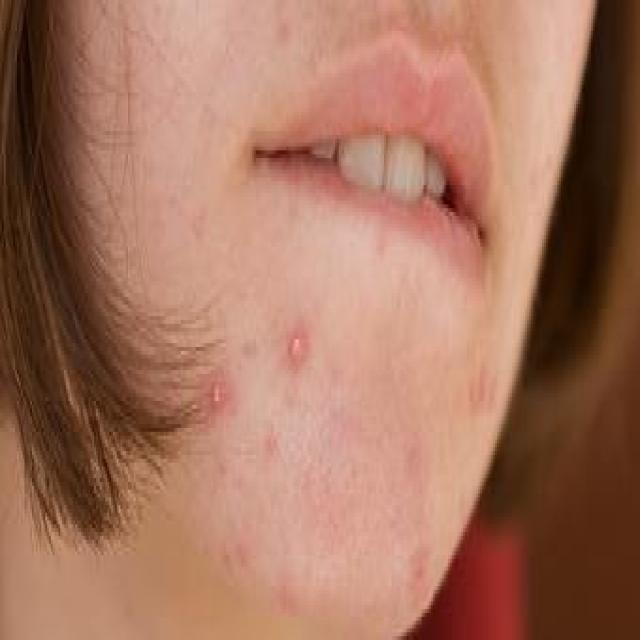Pimples: (284, 324, 309, 371), (206, 370, 232, 413), (277, 12, 290, 46), (266, 424, 278, 455)
